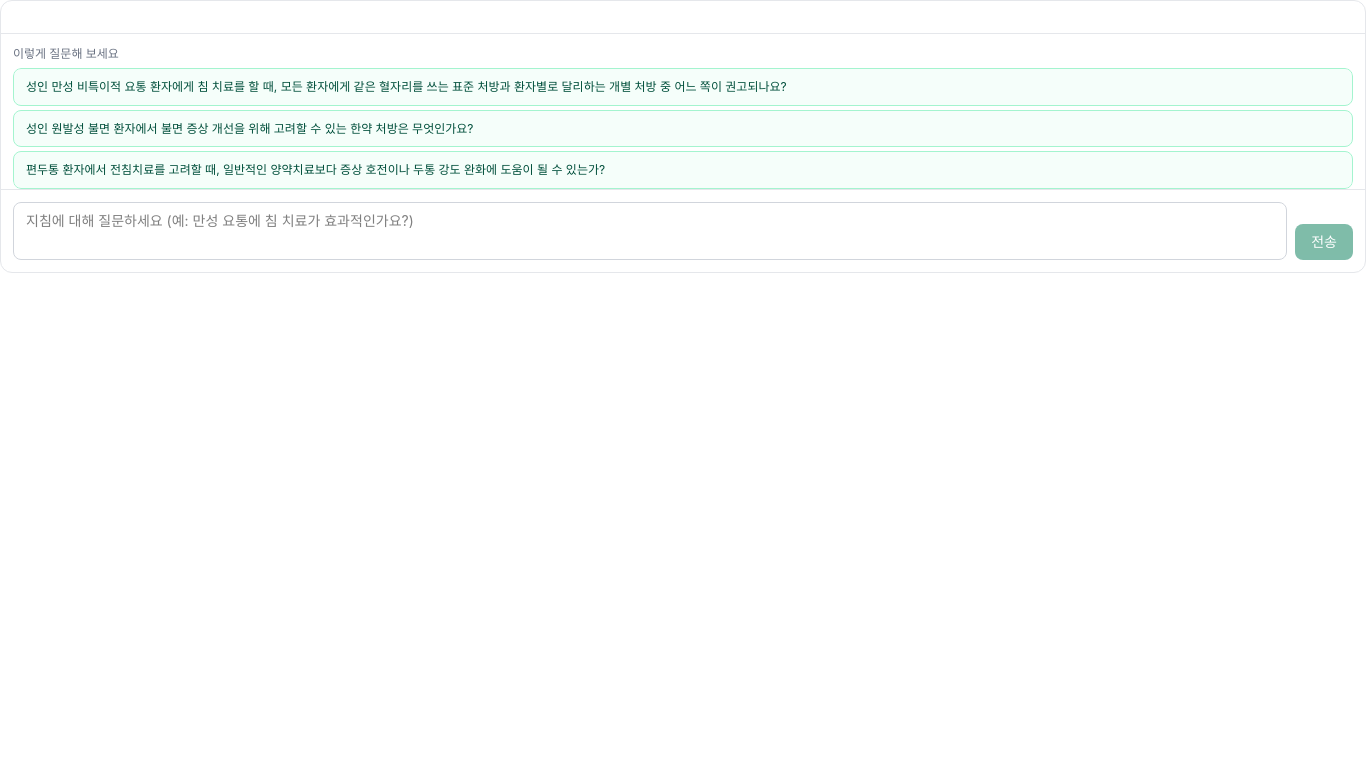
it: 스트림 종결: 카드가 답변을 품는다 (PATIENT_GUIDANCE) › 기준 1: 카드 안에 200자를 넘는 답변 전문과 마지막 문장이 있다
The width and height of the screenshot is (1366, 768).
Step 1. Type "CASE-057 합성진단-57a 기록의 확인 순서를 정리해 주세요." into the text box named "질문 입력" → (650, 230), box [13, 202, 1287, 260]
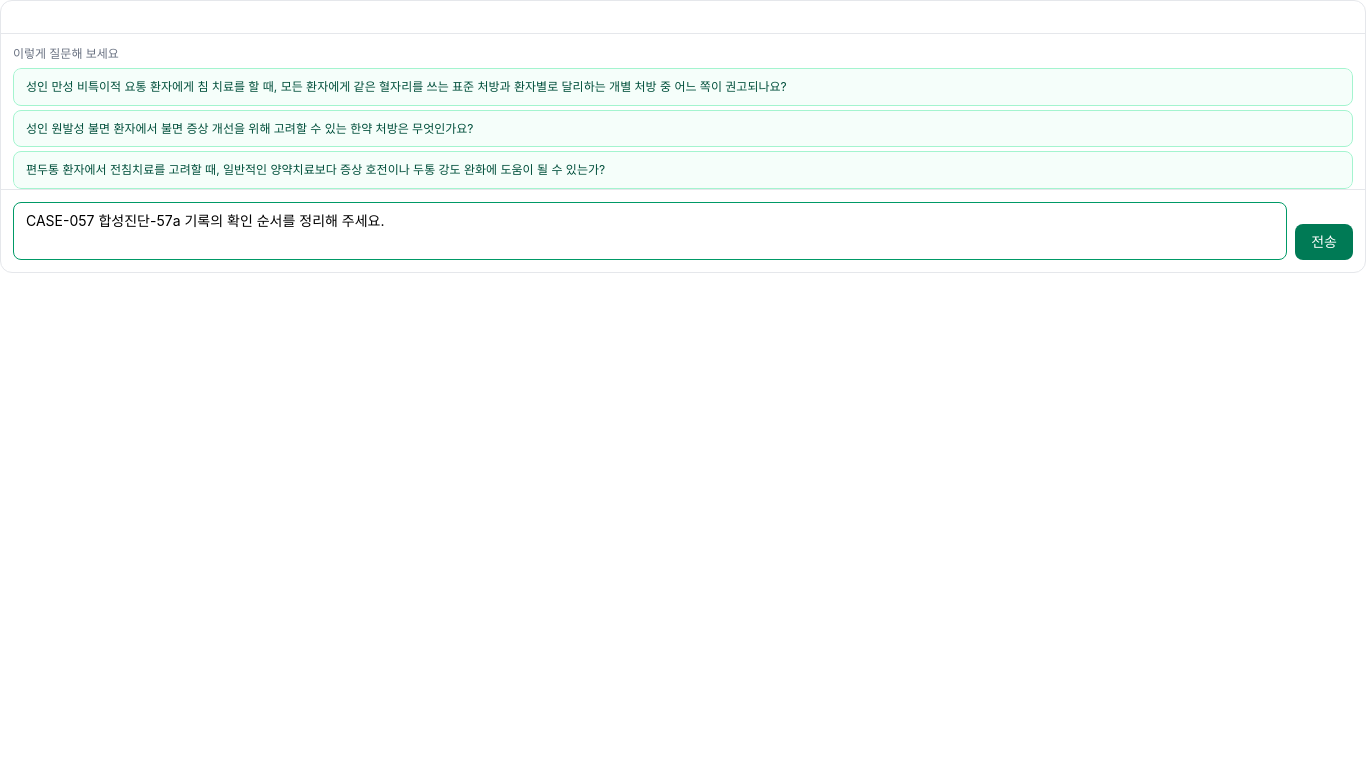
Step 2. Click the button "전송" → (1324, 242), box [1295, 224, 1353, 260]
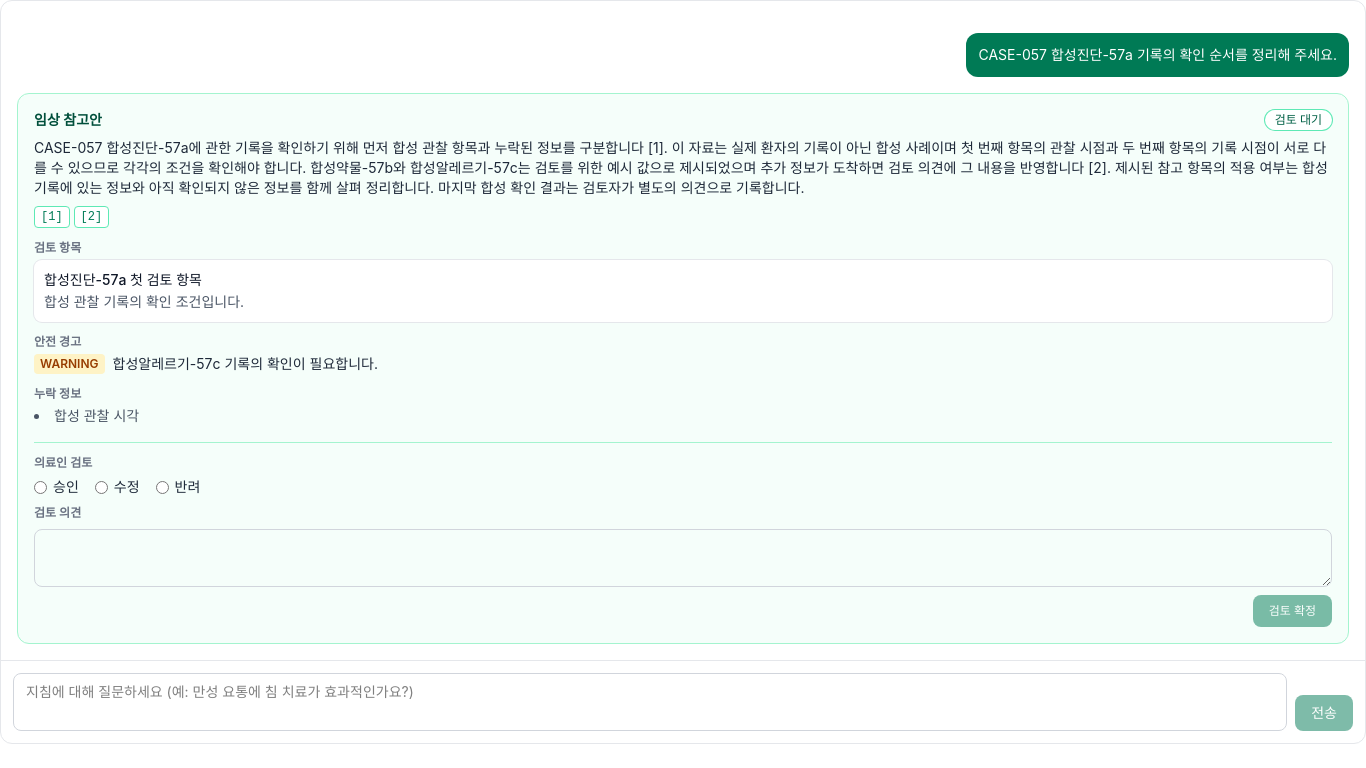
Result: the element "임상 참고안" is shown
Result: the element "임상 참고안" shows "마지막 합성 확인 결과는 검토자가 별도의 의견으로 기록합니다." at [34, 139, 1332, 196]
